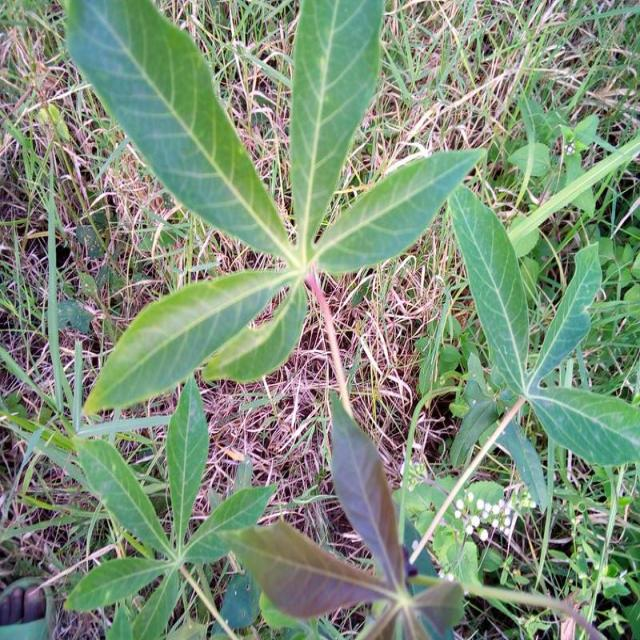cassava leaf: (66, 0, 488, 414), (63, 0, 294, 265), (83, 267, 298, 416), (290, 0, 387, 261), (314, 145, 488, 274), (448, 181, 531, 395)
